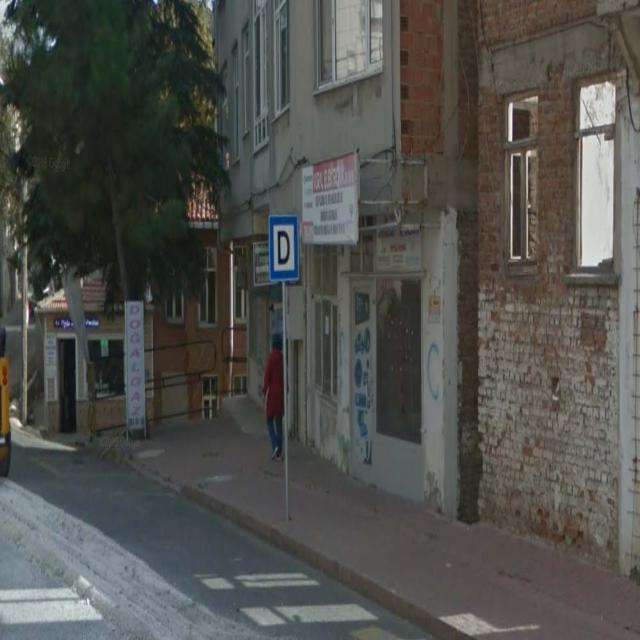durak: (269, 218, 298, 278)
